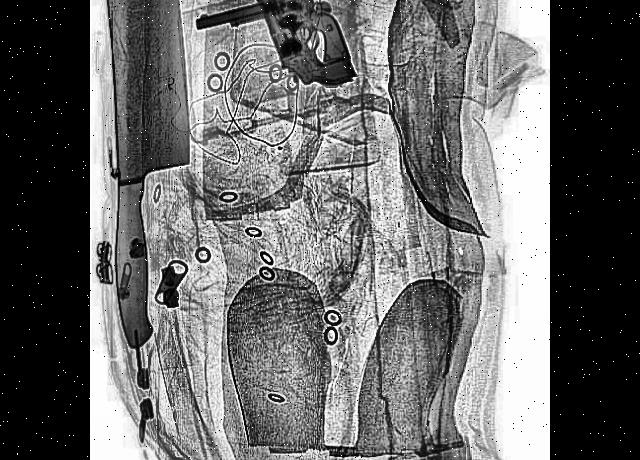Gun: (195, 0, 356, 104), (235, 0, 358, 123)
Knife: (95, 0, 207, 346)
